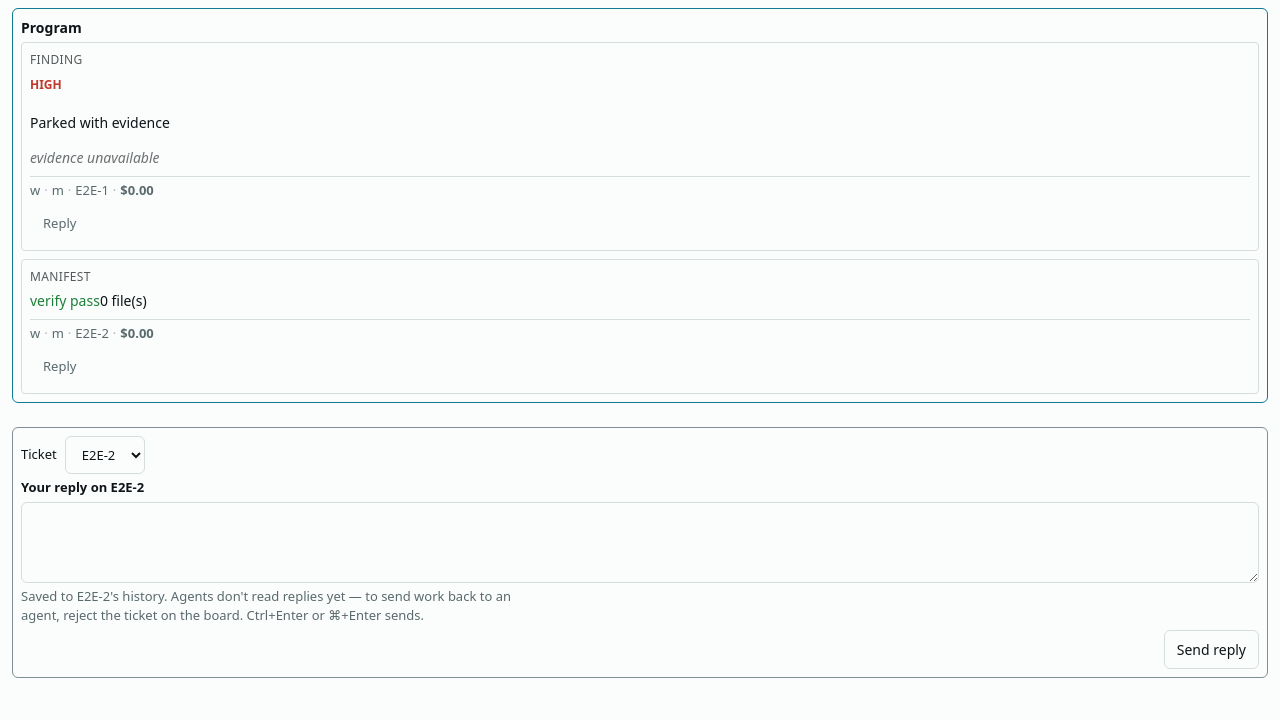
Test: ChatView replies › sends through the comment verb, then shows the reply as the server has it
Click the button with aria-label "Reply on E2E-1": click(60, 223) left=30, top=204, right=89, bottom=242
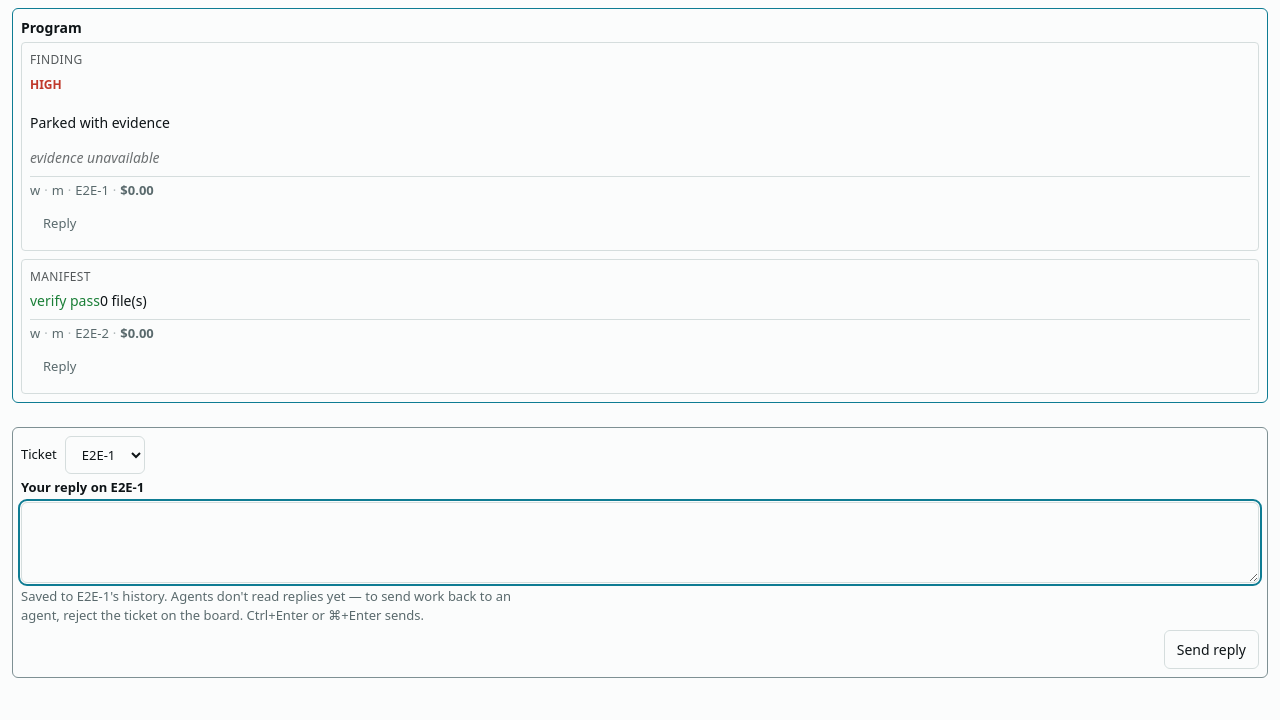
In the text box labelled "Your reply on E2E-1": (640, 542) left=21, top=502, right=1259, bottom=582, type "try again"
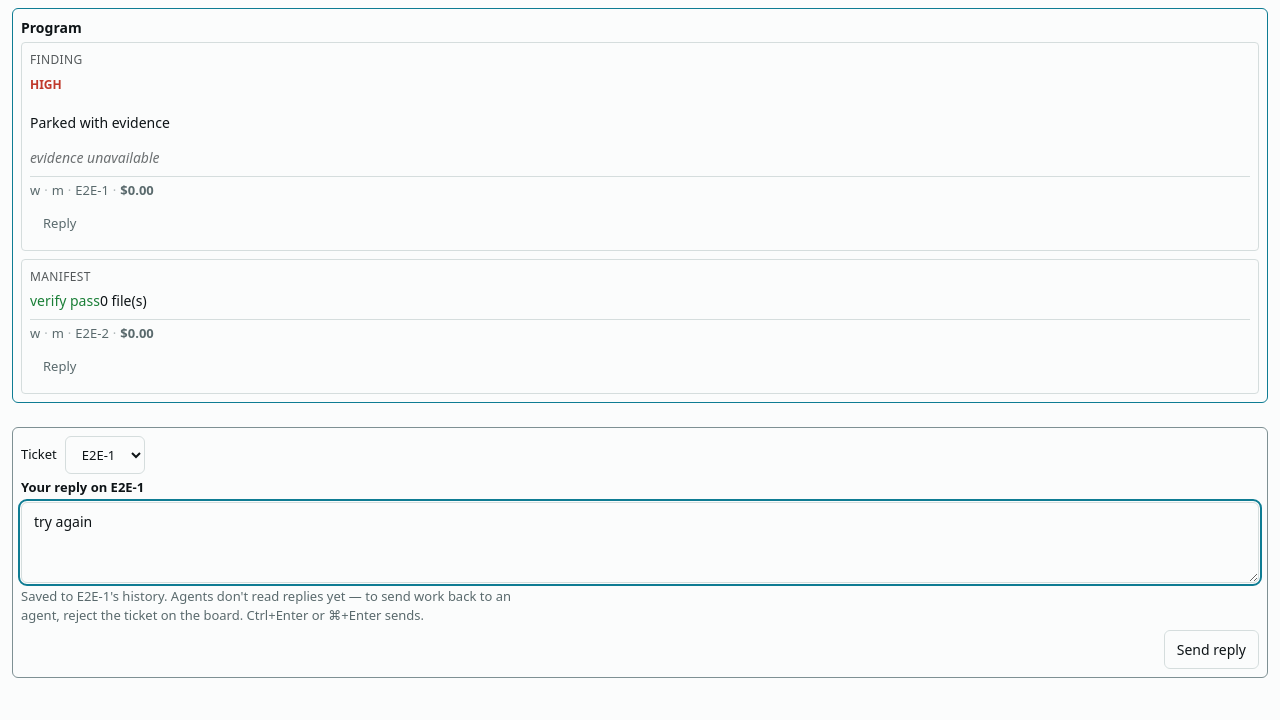
Click the button with test id "chat-composer-send": click(1211, 649) left=1164, top=630, right=1259, bottom=668
(page scrolled)
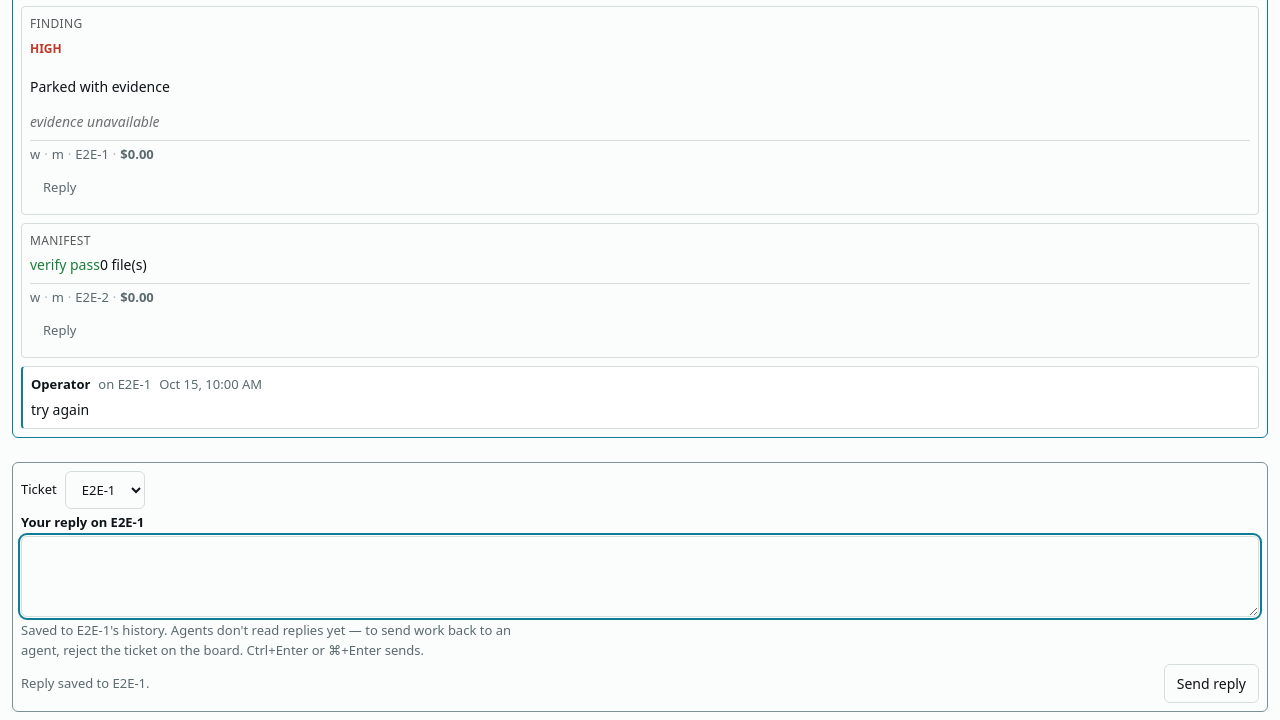
Check: the element with test id "chat-human-reply-4" shows "try again", box left=31, top=400, right=89, bottom=418
Check: the message with test id "chat-composer-status" reads "Reply saved to E2E-1.", box left=21, top=674, right=150, bottom=692
